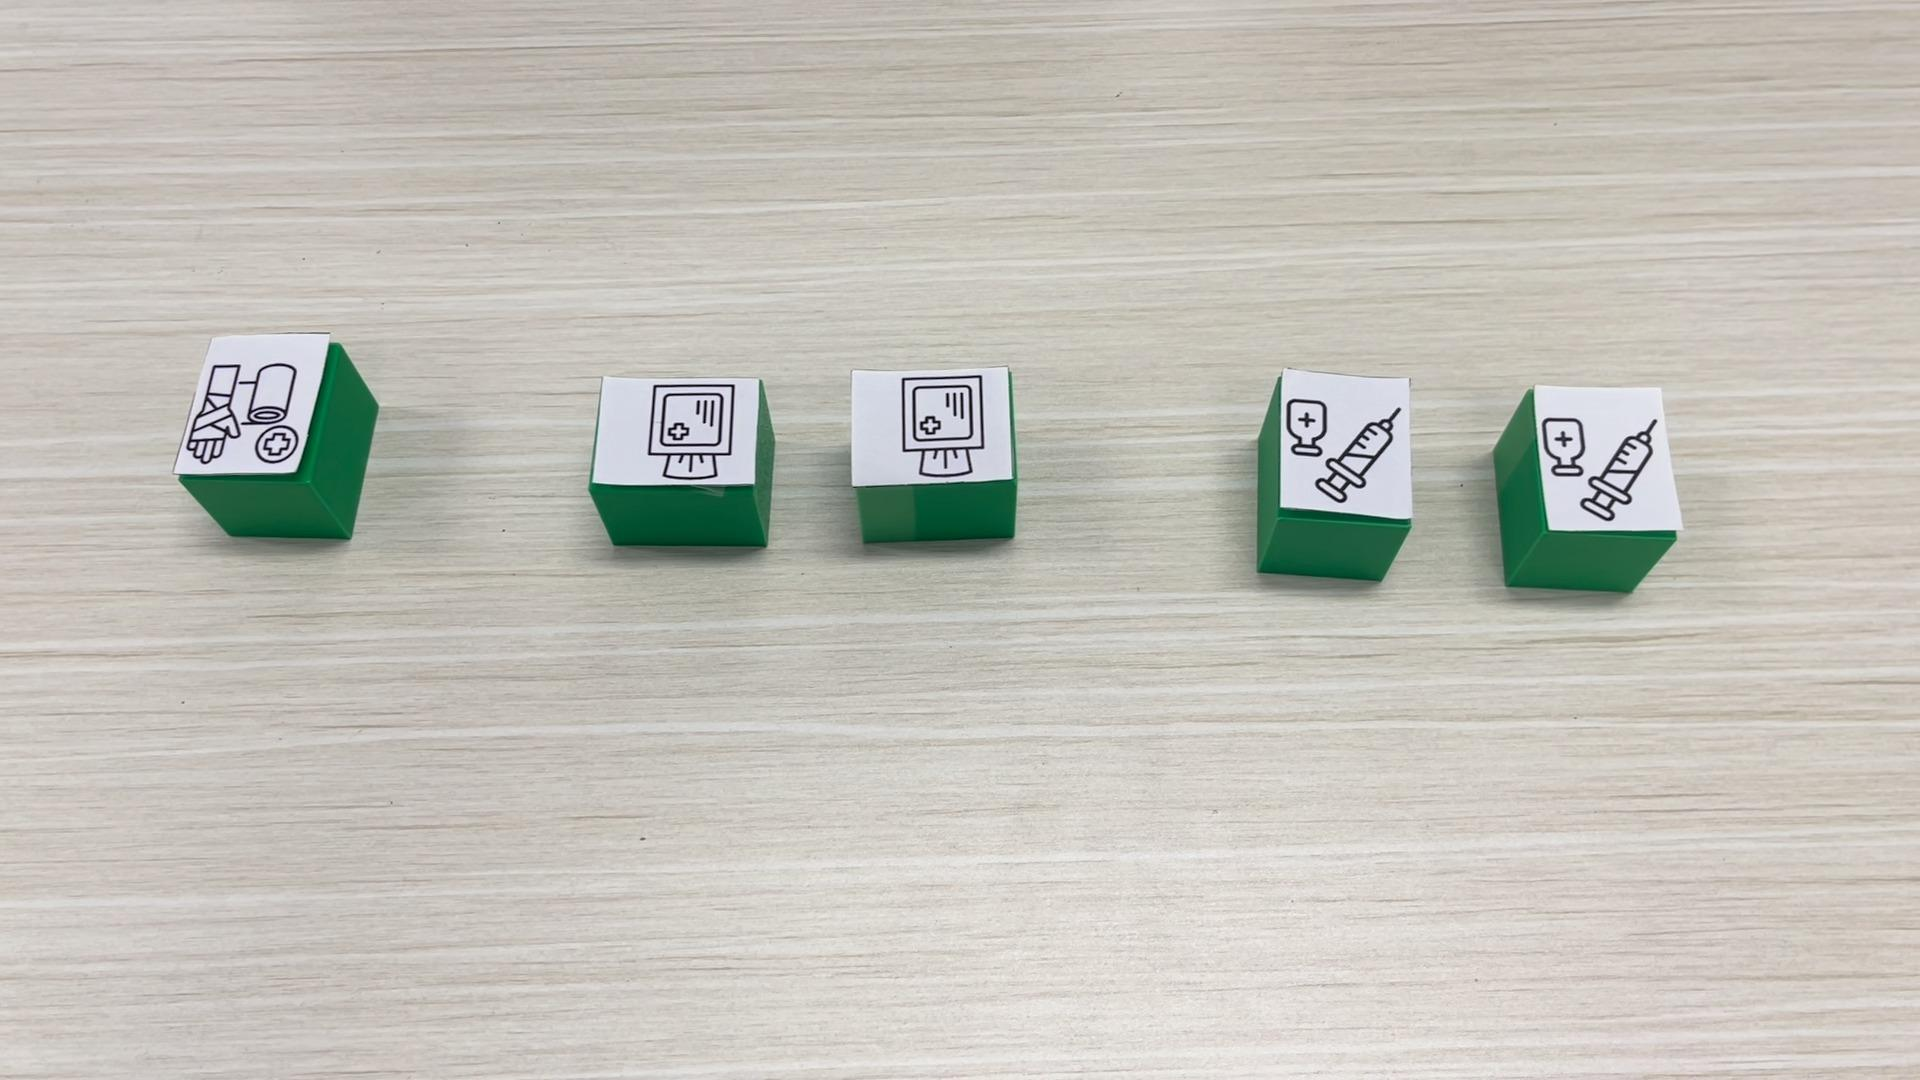Bandages: (174, 331, 378, 539)
Gauze: (589, 373, 771, 547), (849, 365, 1019, 545)
antiseptic cream: (1491, 381, 1683, 593), (1251, 367, 1416, 582)
